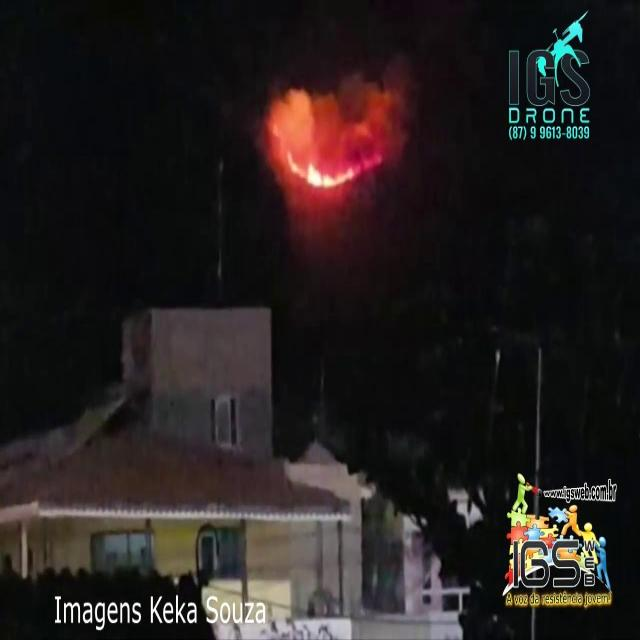Fire: (288, 151, 378, 189)
